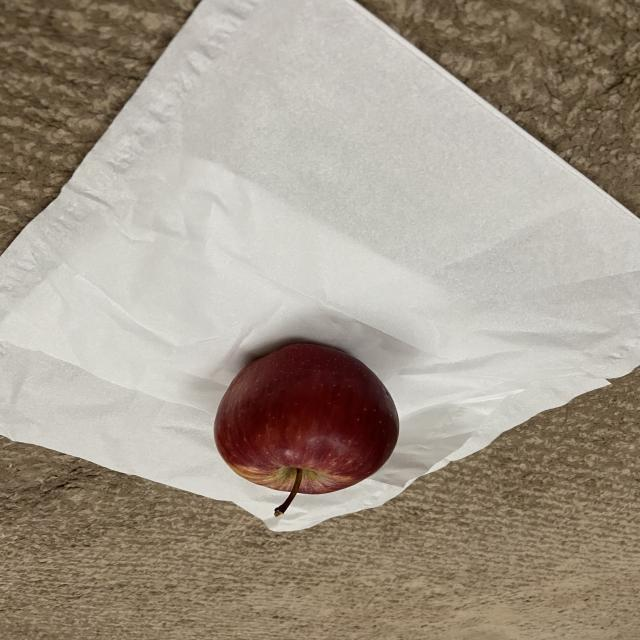apple: (214, 340, 404, 521)
